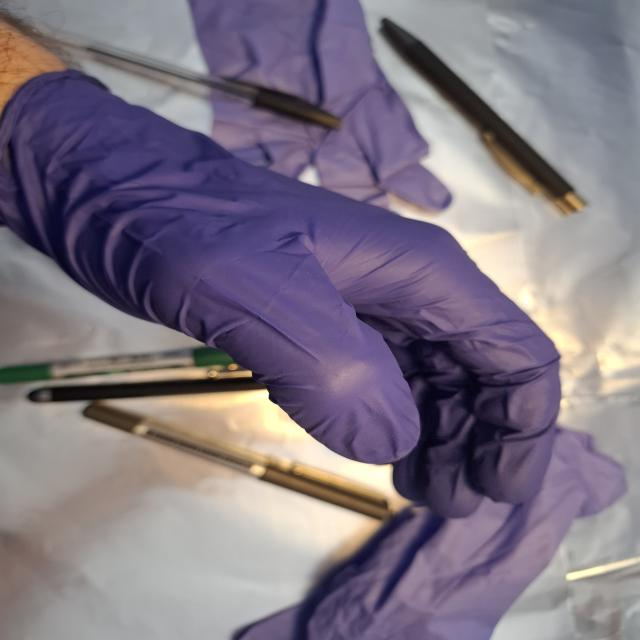glove_on: (0, 67, 566, 524)
